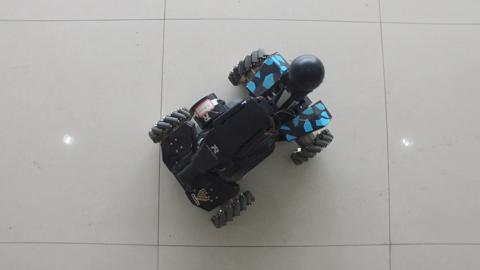chariot: (135, 41, 341, 226)
